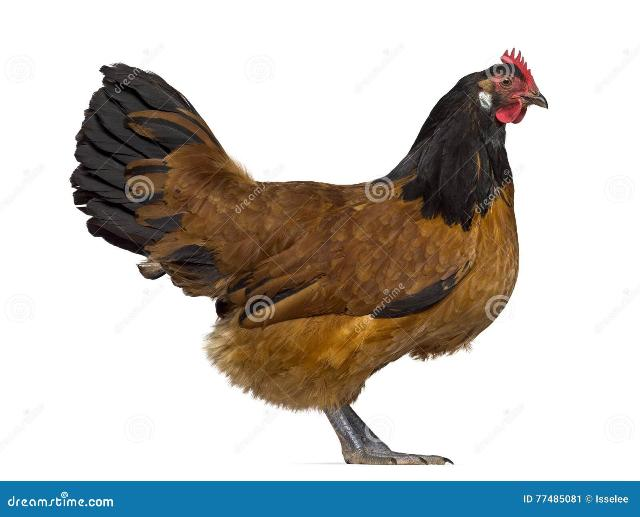Chicken: (73, 48, 547, 464)
